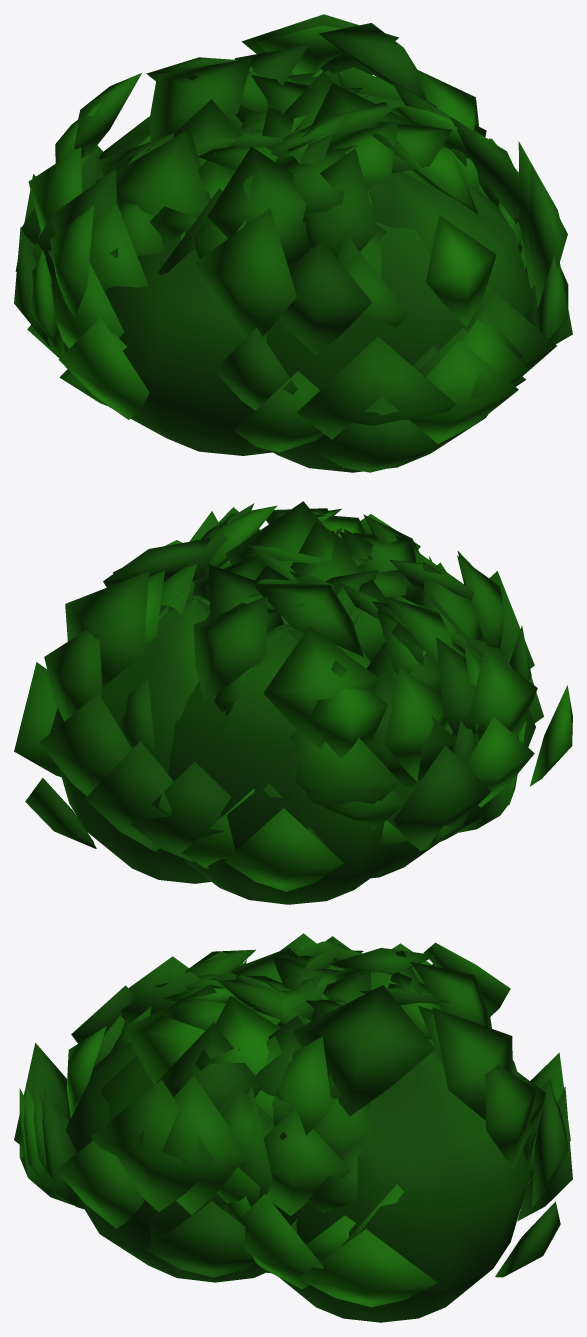
File: AeroBushes.fbx
3 renders of one model, top to bottom at view 1: azimuth 30°, elevation 25°; view 2: azimuth 150°, elevation 25°; view 3: azimuth 270°, elevation 25°, orthographic. The views are drawn at different scales.
Visible parts, largest first — view 1: AeroBush_Large; view 2: AeroBush_Large; view 3: AeroBush_Large.
Part boxes in pixels (x1,y1,x2,y2): AeroBush_Large: [14, 14, 572, 472]; AeroBush_Large: [14, 501, 572, 904]; AeroBush_Large: [14, 933, 572, 1322].
Size of the model in its own units: 1.52 by 0.9804 by 1.57.
